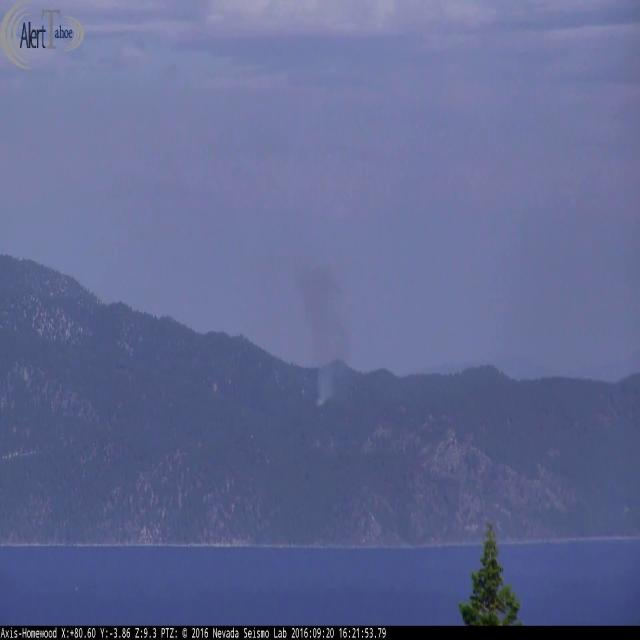smoke: (299, 256, 361, 412)
